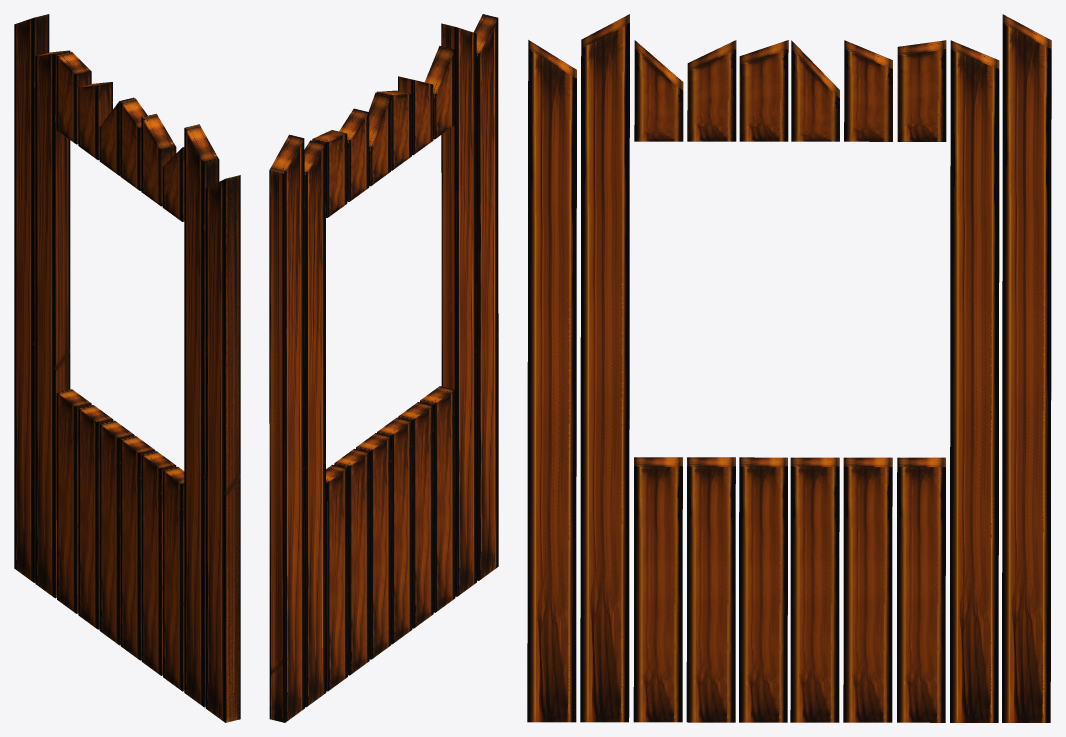
File: window wall.fbx
3 renders of one model, left to right at view 1: azimuth 30°, elevation 25°; view 2: azimuth 150°, elevation 25°; view 3: azimuth 270°, elevation 25°, orthographic. The views are drawn at different scales.
Visible parts, largest first — view 1: wall_window; view 2: wall_window; view 3: wall_window.
Part boxes in pixels (box(x1,y1,x2,y2)): wall_window: box(14, 14, 240, 722); wall_window: box(269, 14, 498, 722); wall_window: box(527, 14, 1051, 722).
Size of the model in its own units: 17.62 by 605 by 410.
